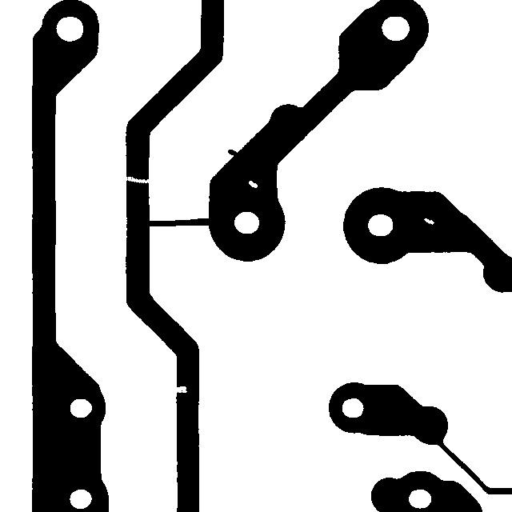mousebite: (164, 378, 194, 400)
open: (113, 167, 157, 190)
pin-hole: (416, 210, 442, 232), (241, 173, 265, 195)
short: (140, 210, 222, 234)
spur: (220, 142, 246, 164)
